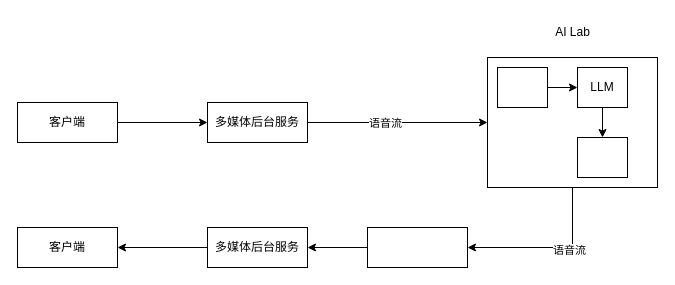
Some shapes in this 675 by 285 pixel diagram are drawn without their labels. Each missing label, with the centre of its shape:
ASR: (522,87)
TTS: (602,157)
多媒体数字人服务: (417,247)
